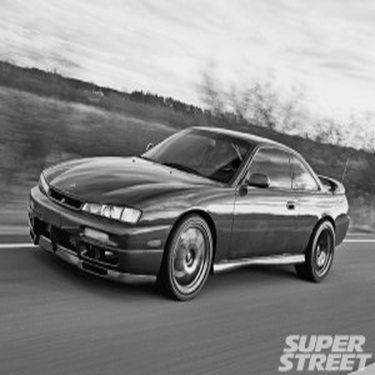car: (28, 119, 356, 302)
